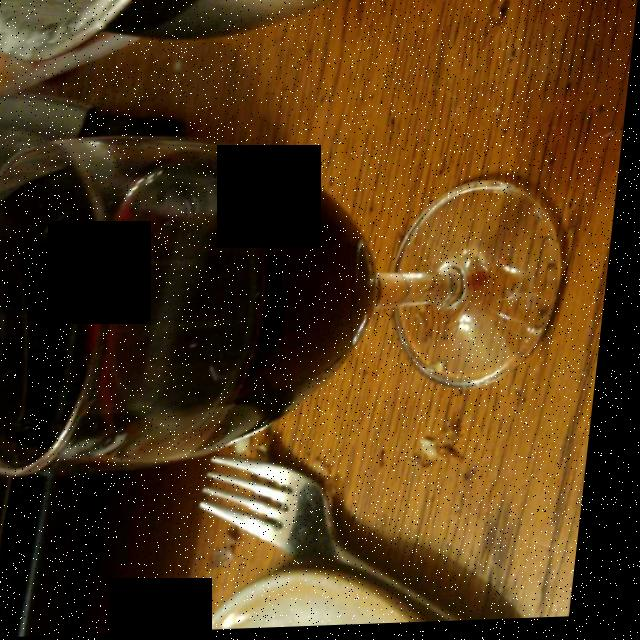wine-red: (95, 145, 370, 455)
